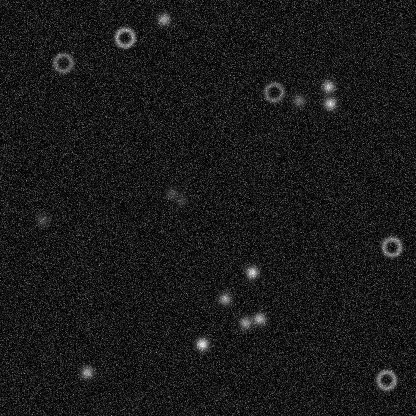Ring: (50, 50, 74, 74), (112, 25, 136, 49), (379, 234, 403, 258), (261, 79, 285, 103), (374, 367, 398, 391)
Spot: (237, 314, 253, 330), (320, 78, 336, 94), (290, 92, 306, 108), (251, 310, 267, 326), (321, 95, 337, 111), (155, 11, 171, 27), (194, 336, 210, 352), (163, 184, 179, 200), (173, 192, 189, 208), (243, 264, 259, 280), (78, 364, 94, 380), (34, 211, 50, 227), (216, 290, 232, 306)
